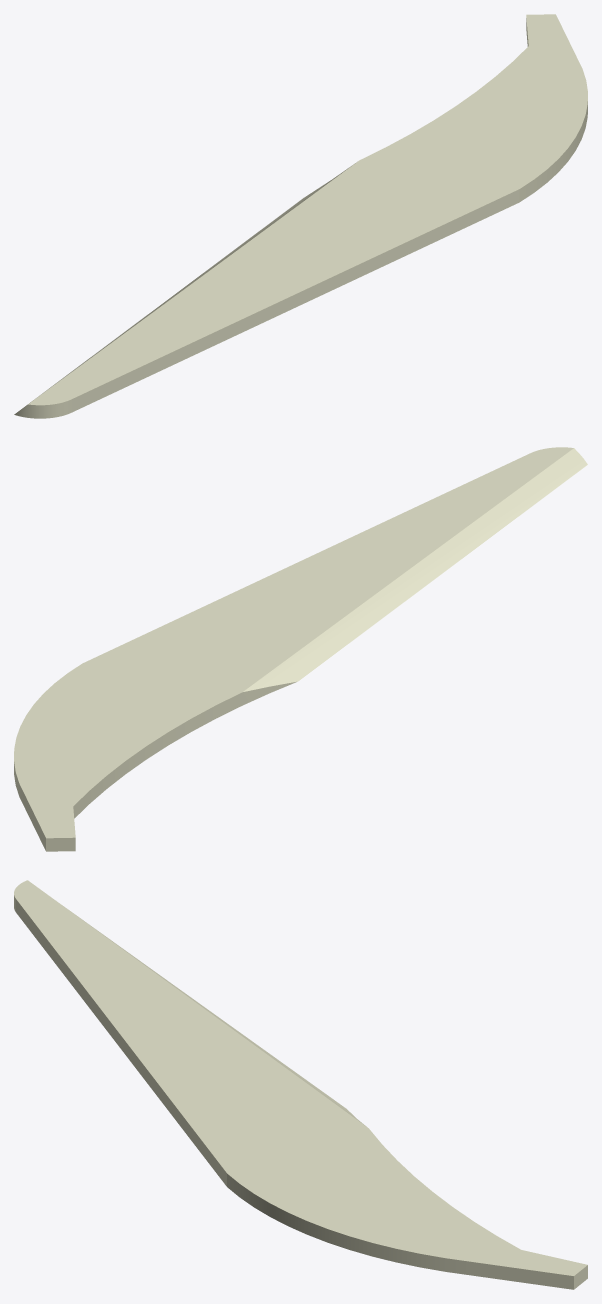
Rendered from original-6.obj.
The picture shows the model from 3 angles, top to bottom: view 1: azimuth 30°, elevation 25°; view 2: azimuth 210°, elevation 25°; view 3: azimuth 270°, elevation 25°; orthographic projection.
Visible parts, largest first — view 1: mesh4/mesh4-geometry#mesh4-geometry; view 2: mesh4/mesh4-geometry#mesh4-geometry; view 3: mesh4/mesh4-geometry#mesh4-geometry.
Part boxes in pixels (x1,y1,x2,y2): mesh4/mesh4-geometry#mesh4-geometry: (14,14,587,418); mesh4/mesh4-geometry#mesh4-geometry: (14,447,587,851); mesh4/mesh4-geometry#mesh4-geometry: (14,880,587,1289).
Bounding box in the file's own units: 1.16 × 0.0185 × 0.7031.
